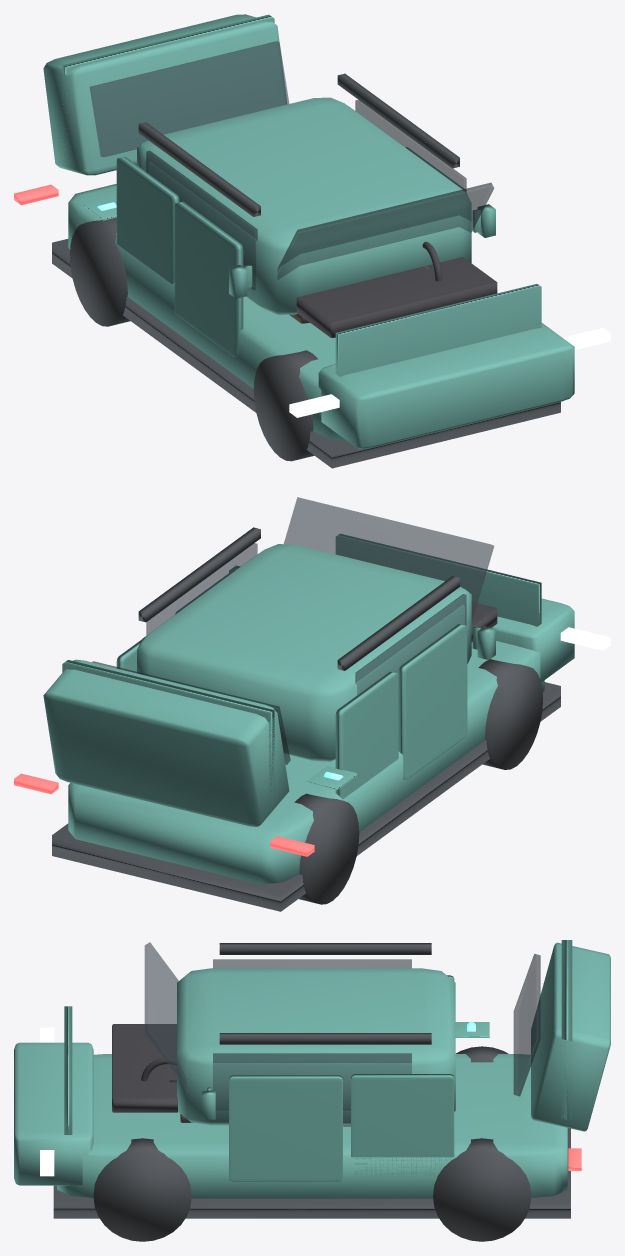
Rendered from compact_crossover.glb.
The picture shows the model from 3 angles, top to bottom: view 1: azimuth 30°, elevation 25°; view 2: azimuth 150°, elevation 25°; view 3: azimuth 270°, elevation 25°; orthographic projection. The views are drawn at different scales.
Parts seen in each view (by area): view 1: cab, hatch, nose, rear_window, base, frunk, dash, door_fl, windshield, cladding, door_rl, wheel_rl (+8 smaller); view 2: cab, hatch, base, windshield, cladding, door_fl, frunk, door_rl, wheel_fl, wheel_rl, nose, window_glass (+11 smaller); view 3: cab, base, door_fr, hatch, nose, door_rr, wheel_rr, wheel_fr, cladding, dash, window_glass.001, windshield (+9 smaller).
Boxes of the visible parts, box(x1,y1,x2,y2) form: cab: box(137, 97, 471, 314); hatch: box(43, 14, 286, 175); nose: box(318, 323, 574, 448); rear_window: box(89, 41, 289, 157); base: box(68, 184, 346, 440); frunk: box(335, 284, 541, 376); dash: box(296, 257, 497, 337); door_fl: box(174, 201, 243, 357); windshield: box(277, 182, 493, 279); cladding: box(52, 239, 560, 468); door_rl: box(116, 157, 179, 284); wheel_rl: box(69, 217, 130, 326); cab: box(137, 544, 471, 761); hatch: box(43, 659, 289, 826); base: box(68, 641, 544, 884); windshield: box(284, 497, 493, 622); cladding: box(52, 682, 560, 911); door_fl: box(398, 624, 467, 779); frunk: box(336, 534, 541, 626); door_rl: box(335, 671, 398, 799); wheel_fl: box(478, 659, 543, 769); wheel_rl: box(294, 793, 359, 904); nose: box(492, 598, 574, 682); window_glass: box(355, 594, 466, 694); cab: box(177, 968, 455, 1125); base: box(57, 1054, 567, 1198); door_fr: box(229, 1075, 342, 1181); hatch: box(531, 942, 610, 1131); nose: box(14, 1042, 93, 1185); door_rr: box(351, 1074, 454, 1176); wheel_rr: box(433, 1138, 531, 1241); wheel_fr: box(93, 1138, 191, 1241); cladding: box(53, 1128, 570, 1218); dash: box(112, 1024, 177, 1112); window_glass.001: box(213, 1053, 411, 1110); windshield: box(144, 942, 186, 1088).
Bounding box in the file's own units: 2.52 × 1.69 × 4.5.
